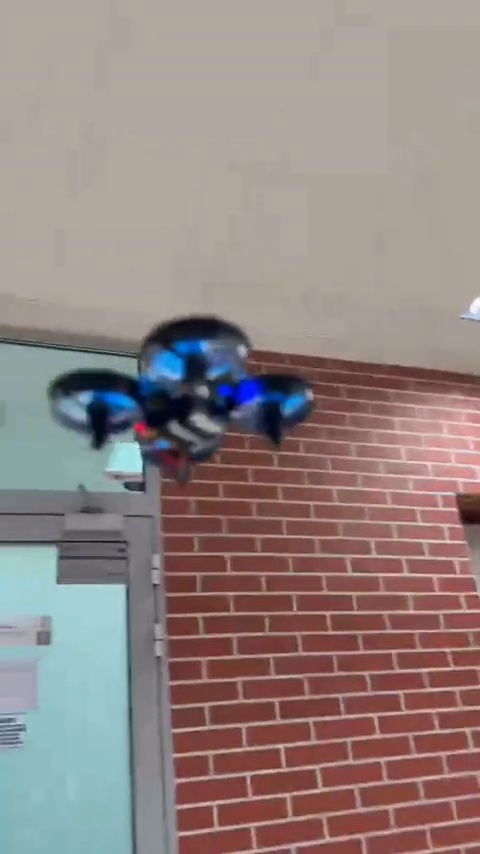drone: (42, 315, 322, 475)
